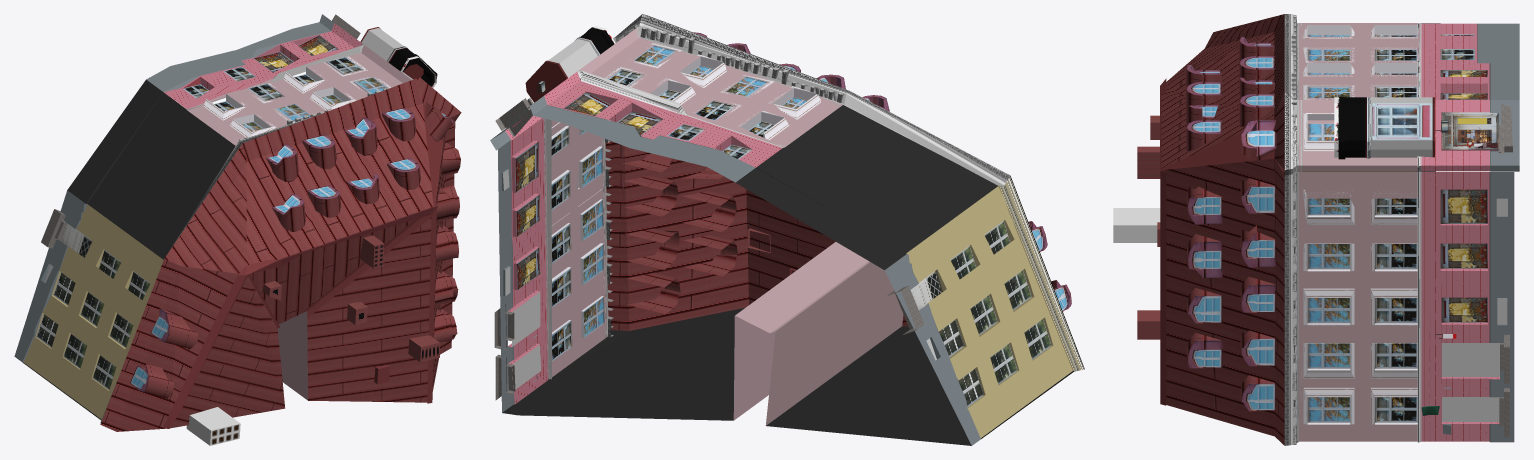
File: Rataskaevu_2-origo.obj
The picture shows the model from 3 angles, left to right: view 1: azimuth 30°, elevation 25°; view 2: azimuth 150°, elevation 25°; view 3: azimuth 270°, elevation 25°; orthographic projection. The views are drawn at different scales.
Parts seen in each view (by area): view 1: Rataskaevu_2; view 2: Rataskaevu_2; view 3: Rataskaevu_2.
Part boxes in pixels (x1=…): Rataskaevu_2: x1=14, y1=14, x2=461, y2=445; Rataskaevu_2: x1=490, y1=14, x2=1084, y2=445; Rataskaevu_2: x1=1113, y1=14, x2=1519, y2=445.
Size of the model in its own units: 27.19 by 18.5 by 20.27.
